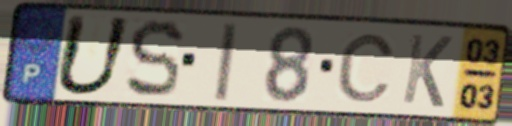8: (262, 24, 317, 106)
C: (335, 31, 399, 105)
I: (211, 21, 241, 104)
K: (399, 31, 456, 111)
S: (123, 17, 187, 101)
U: (51, 12, 137, 99)
